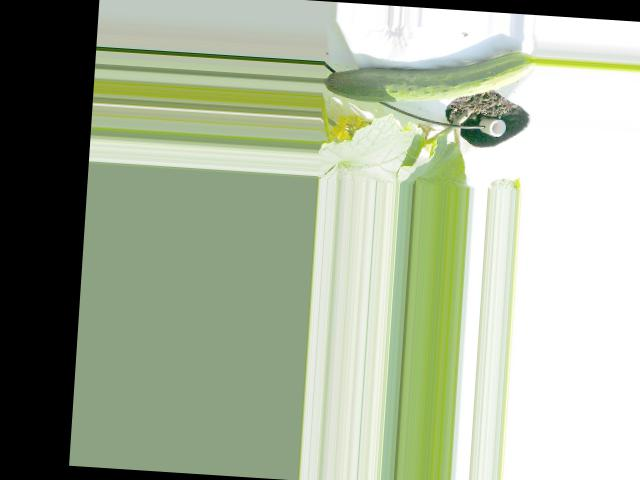cucumber: (322, 39, 538, 112)
